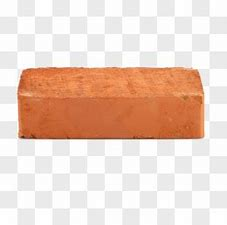brick: (11, 63, 209, 141)
